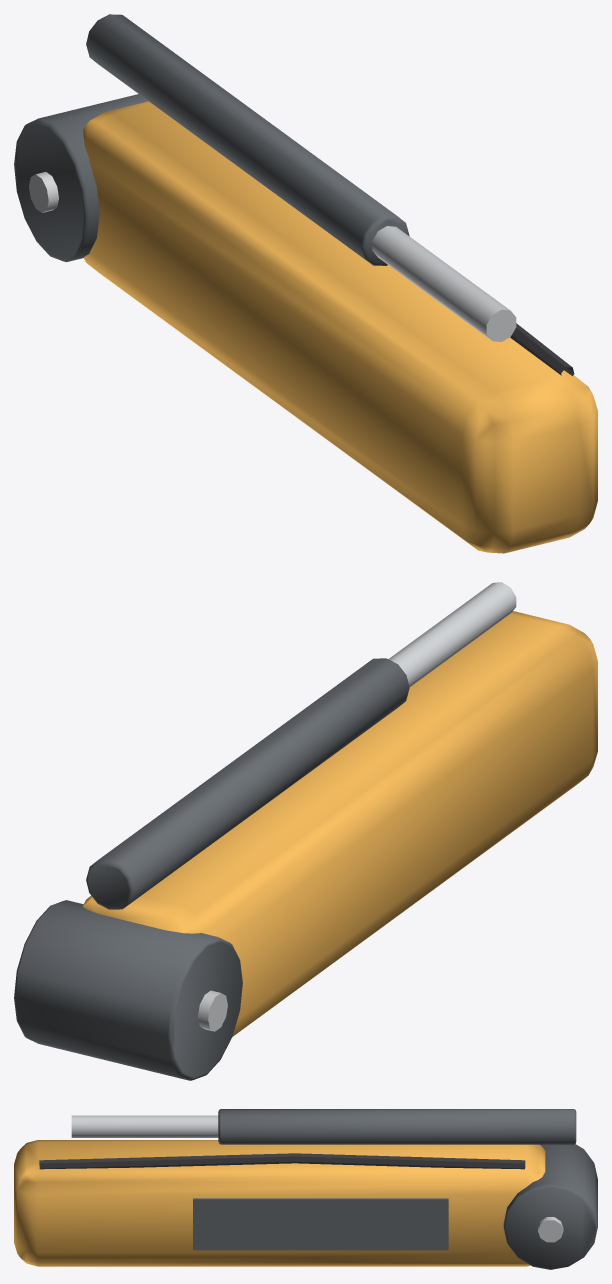
Rendered from exc_knee.glb.
The picture shows the model from 3 angles, top to bottom: view 1: azimuth 30°, elevation 25°; view 2: azimuth 150°, elevation 25°; view 3: azimuth 270°, elevation 25°; orthographic projection. The views are drawn at different scales.
Parts seen in each view (by area): view 1: Body; view 2: Body; view 3: Body.
Part boxes in pixels (<box>): Body: <box>14,14,597,553</box>; Body: <box>14,582,597,1080</box>; Body: <box>14,1109,597,1269</box>.
Size of the model in its own units: 0.52 by 0.62 by 2.28.
